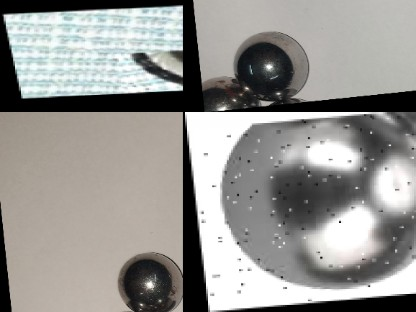ironball: (188, 113, 415, 311), (236, 28, 316, 99), (121, 249, 179, 310), (197, 78, 266, 110)
